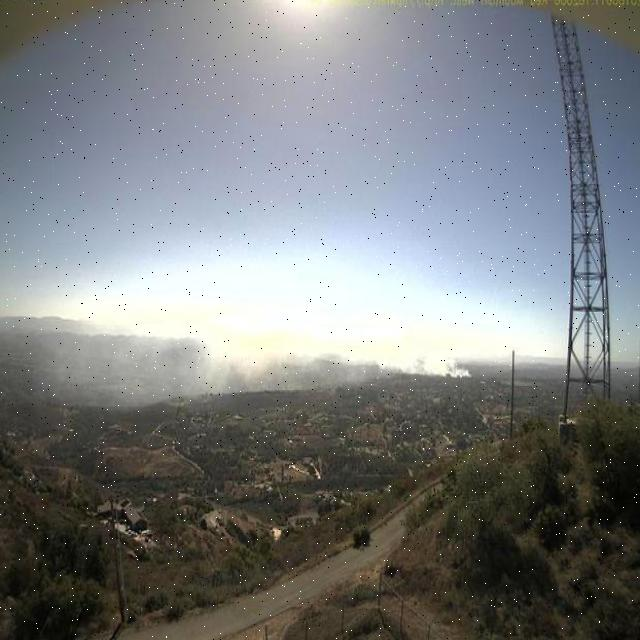smoke: (171, 322, 473, 388)
